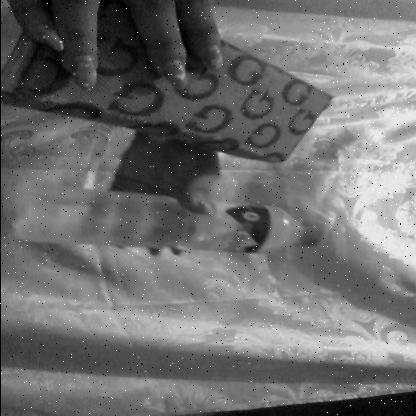Plastic Bottle: (10, 176, 335, 272)
